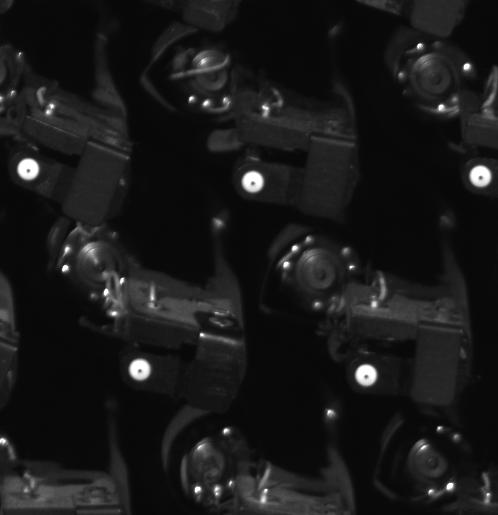fiber: (120, 351, 159, 388), (237, 164, 271, 200), (461, 159, 495, 194), (13, 151, 46, 185), (350, 359, 383, 393)
